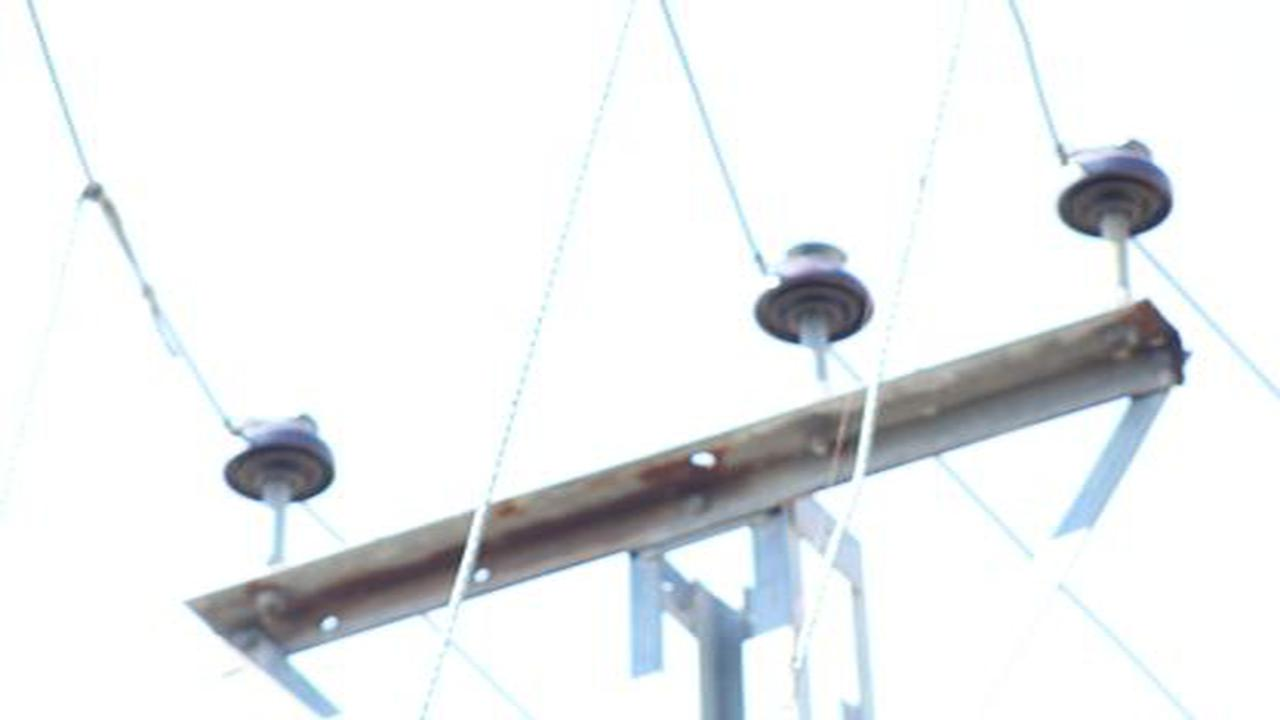insulator_pin: (750, 234, 879, 345), (1053, 135, 1177, 246), (222, 410, 343, 505)
